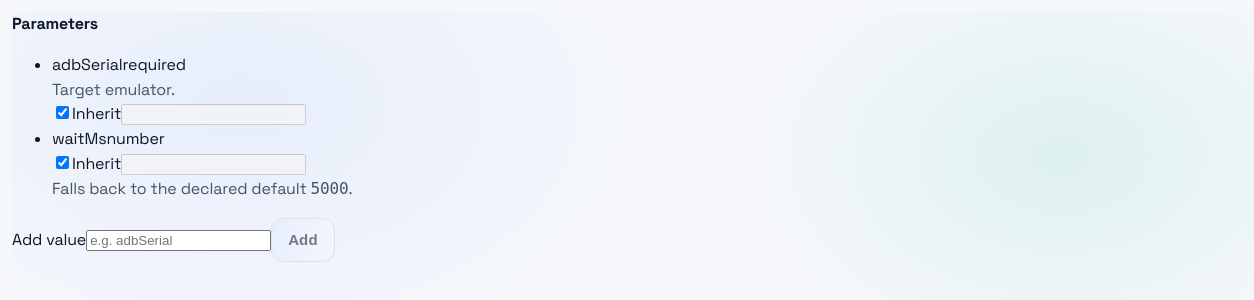
ParameterBindingForm › rejects a reserved ad-hoc name inline
This screenshot has width=1254, height=300.
In the field named "New parameter value name": (179, 241) [86,230,271,251], type "iteration"
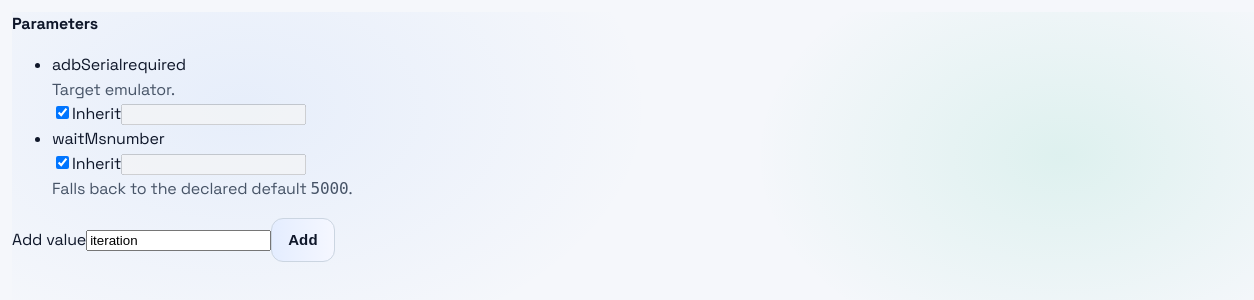
Click the button "Add": (303, 240) [271,218,335,262]
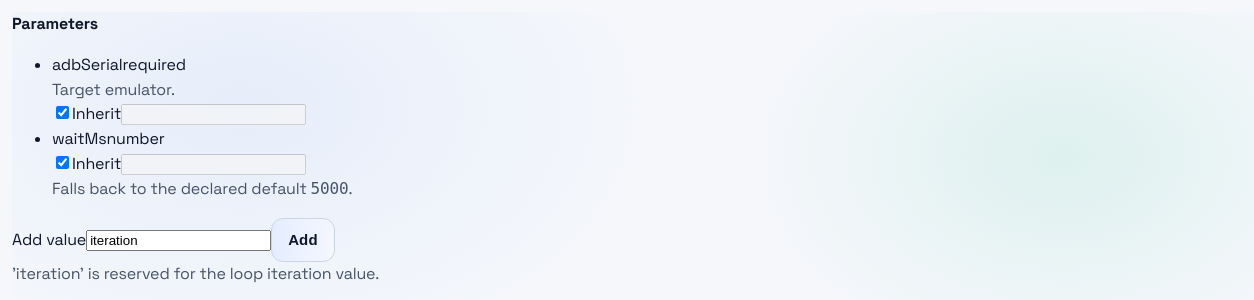
Result: the message shows "reserved" at [12,263,379,284]
